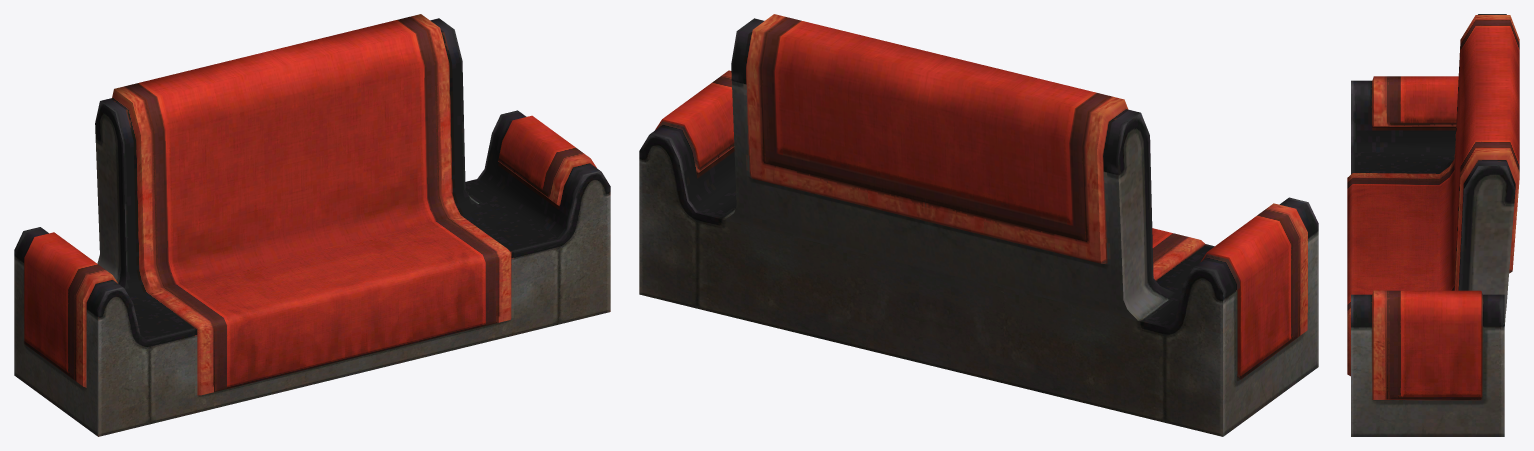
The model's file is frn_all_couch_lg_s1_l0.fbx.
3 renders of one model, left to right at view 1: azimuth 30°, elevation 25°; view 2: azimuth 150°, elevation 25°; view 3: azimuth 270°, elevation 25°, orthographic. The views are drawn at different scales.
Parts seen in each view (by area): view 1: mesh_node; view 2: mesh_node; view 3: mesh_node.
Boxes of the visible parts, x1=… form: mesh_node: x1=14, y1=14, x2=610, y2=436; mesh_node: x1=639, y1=14, x2=1318, y2=436; mesh_node: x1=1347, y1=14, x2=1519, y2=436.
Size of the model in its own units: 2.43 by 1.16 by 0.7623.
1 material, 1 textured.
